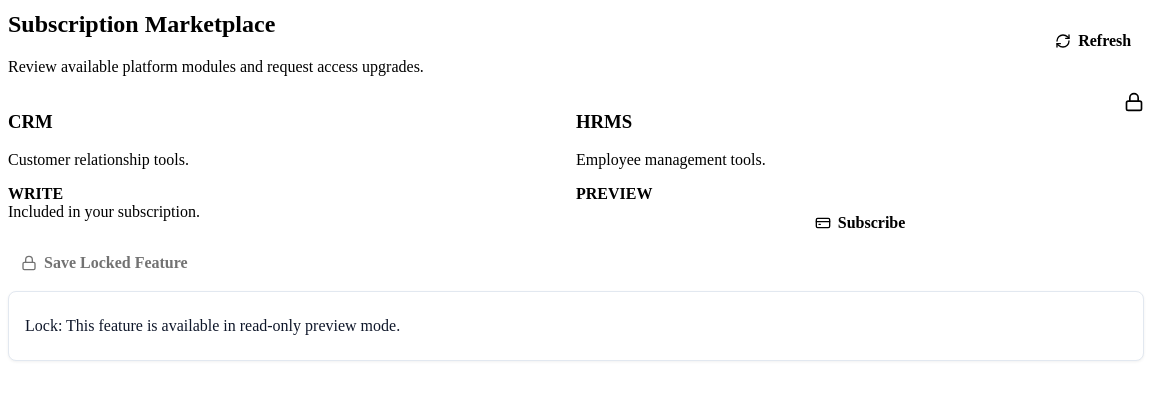
Scenario: SubscriptionMarketplace › runs checkout and creates a subscription approval case
Expected: the element named "HRMS module" is shown, [576,92,1144,243]
Click the button "Subscribe". click: (860,223)
box: [576,203,1144,243]
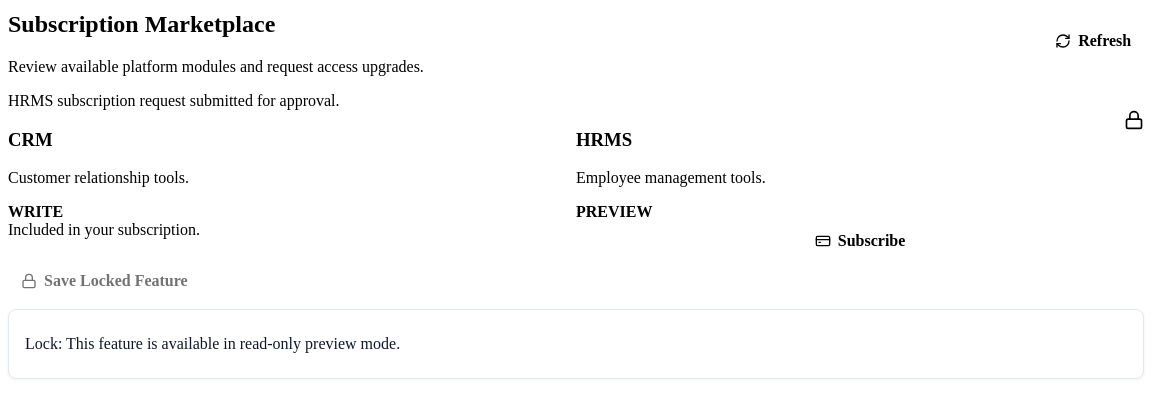
Expected: the text "HRMS subscription request submitted for approval." is shown, [8,92,340,109]
